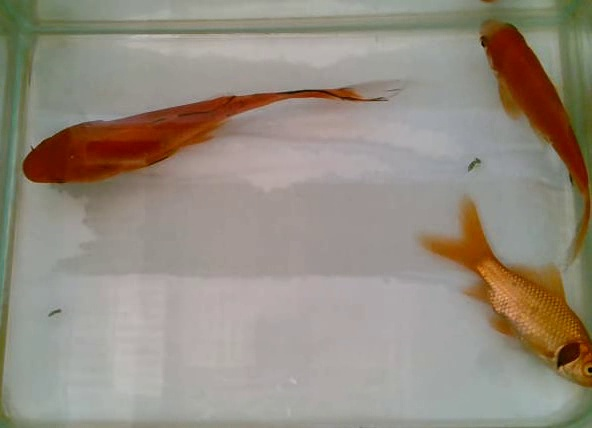alive_fish: (22, 74, 396, 190), (475, 16, 592, 273)
dead_fish: (410, 193, 592, 393)
